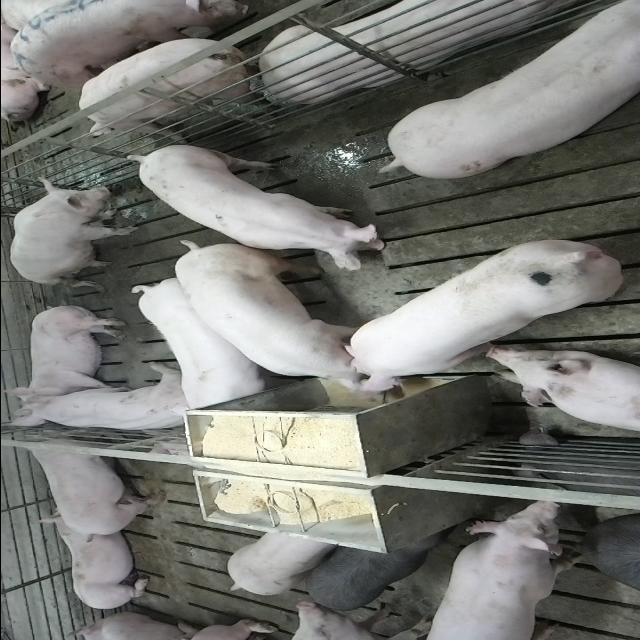Feeding: (342, 236, 624, 401), (166, 236, 384, 396)
Lateral_lying: (11, 303, 129, 397)
Sitting: (7, 175, 139, 285), (10, 372, 196, 436)
Standing: (383, 0, 640, 176), (126, 143, 390, 271), (415, 500, 580, 639), (5, 0, 265, 88), (78, 32, 276, 142), (128, 277, 278, 415), (11, 434, 167, 540), (300, 529, 454, 611), (226, 530, 336, 596), (282, 599, 427, 640), (582, 514, 638, 600)
Sternal_lying: (485, 348, 640, 433), (38, 517, 154, 612)
